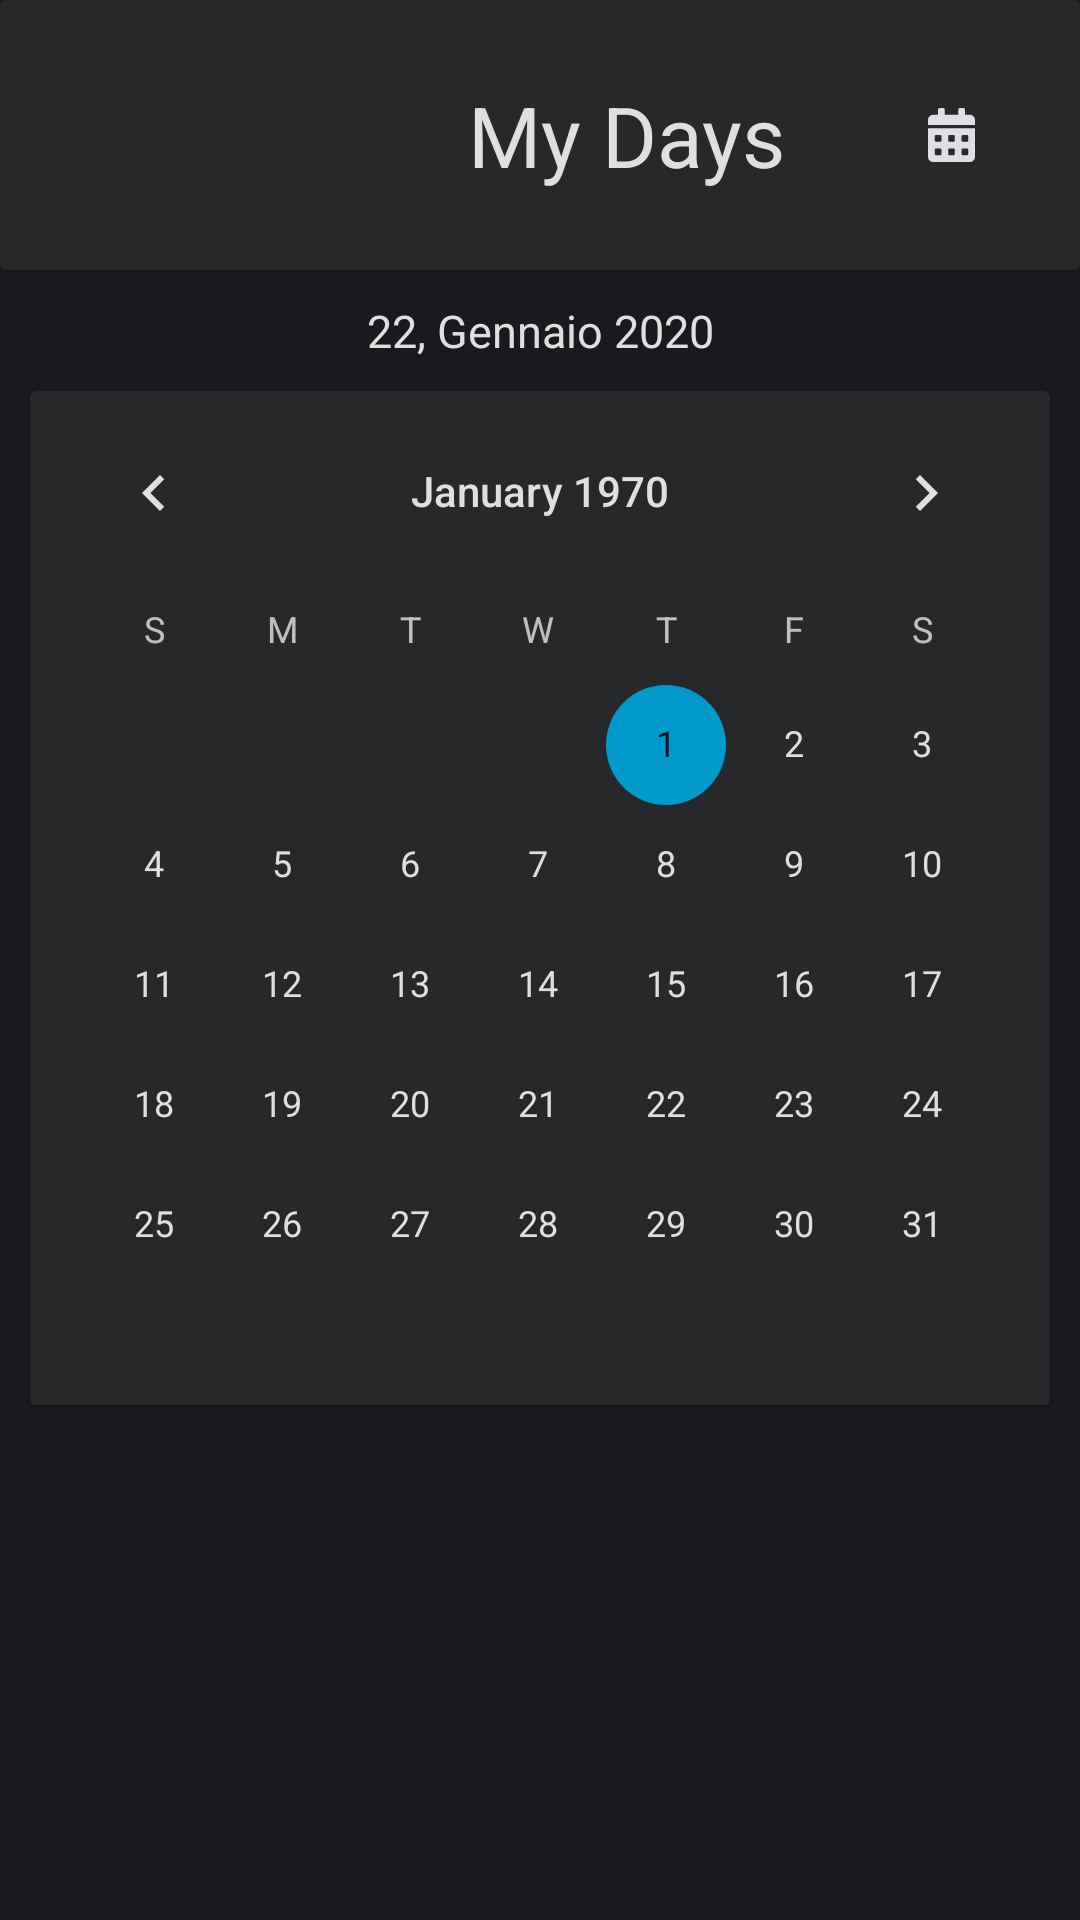

Point at icon controls on the screen. Image size 1080*1920, points as (x=x, y=y).
awesome calendar: (x=951, y=135)
